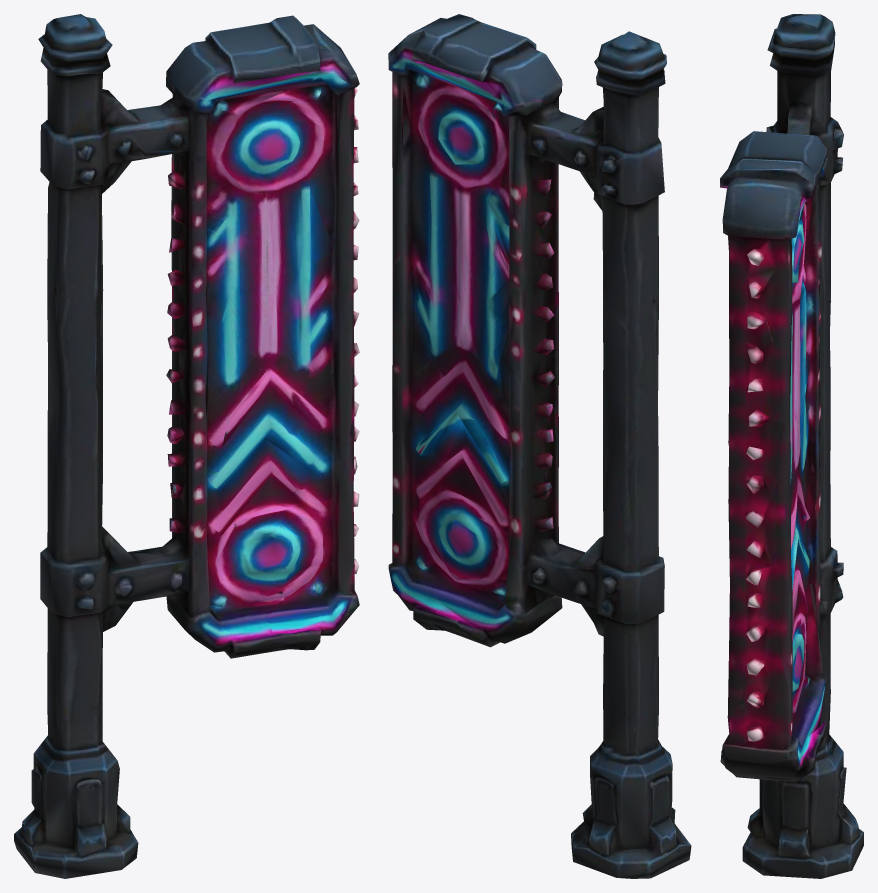
File: neon-sign.glb
3 views of the same model, side by side, from view 1: azimuth 30°, elevation 25°; view 2: azimuth 150°, elevation 25°; view 3: azimuth 270°, elevation 25° (orthographic). The views are drawn at different scales.
Visible parts, largest first — view 1: neon-sign; view 2: neon-sign; view 3: neon-sign.
Part boxes in pixels (x1=…): neon-sign: x1=14, y1=14, x2=359, y2=878; neon-sign: x1=388, y1=14, x2=691, y2=878; neon-sign: x1=720, y1=14, x2=863, y2=878.
Size of the model in its own units: 2.73 by 7 by 1.09.
Materials: 1 (1 with a texture image).
